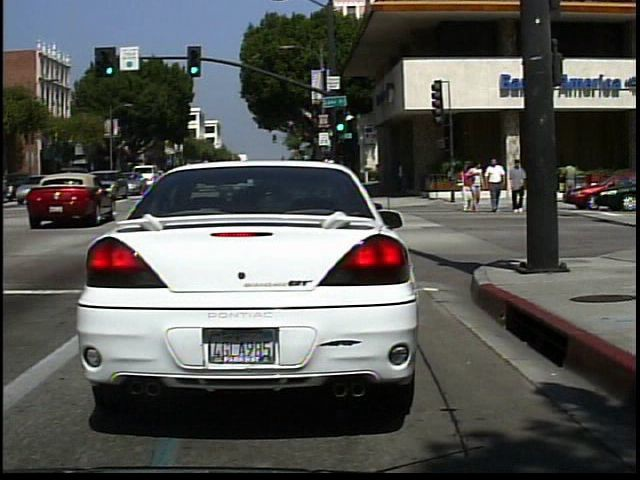person: (485, 156, 508, 214), (558, 156, 584, 206), (507, 156, 527, 211), (459, 162, 476, 213), (474, 158, 488, 211)
